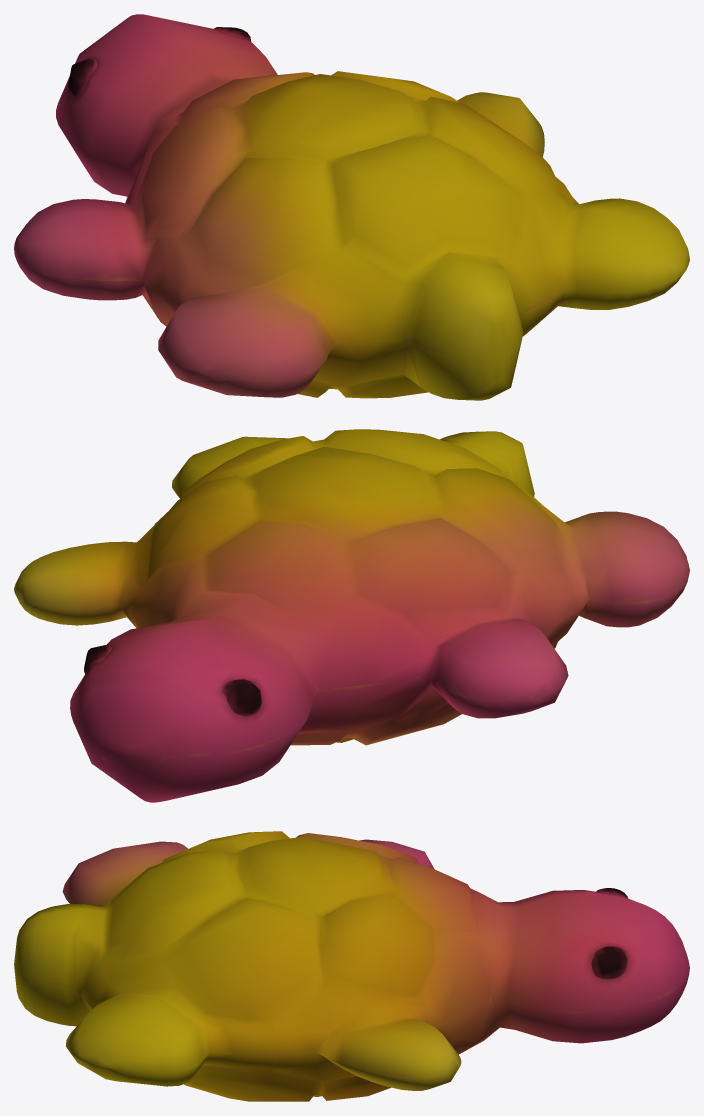
File: GummyTurtle.glb
The picture shows the model from 3 angles, top to bottom: view 1: azimuth 30°, elevation 25°; view 2: azimuth 150°, elevation 25°; view 3: azimuth 270°, elevation 25°; orthographic projection. The views are drawn at different scales.
Parts seen in each view (by area): view 1: geometry_0; view 2: geometry_0; view 3: geometry_0.
Part boxes in pixels (x1,y1,x2,y2): geometry_0: [14, 14, 689, 400]; geometry_0: [14, 429, 689, 802]; geometry_0: [14, 831, 689, 1101].
Bounding box in the file's own units: 0.7992 × 0.3677 × 1.02.
Materials: 1 (1 with a texture image).
